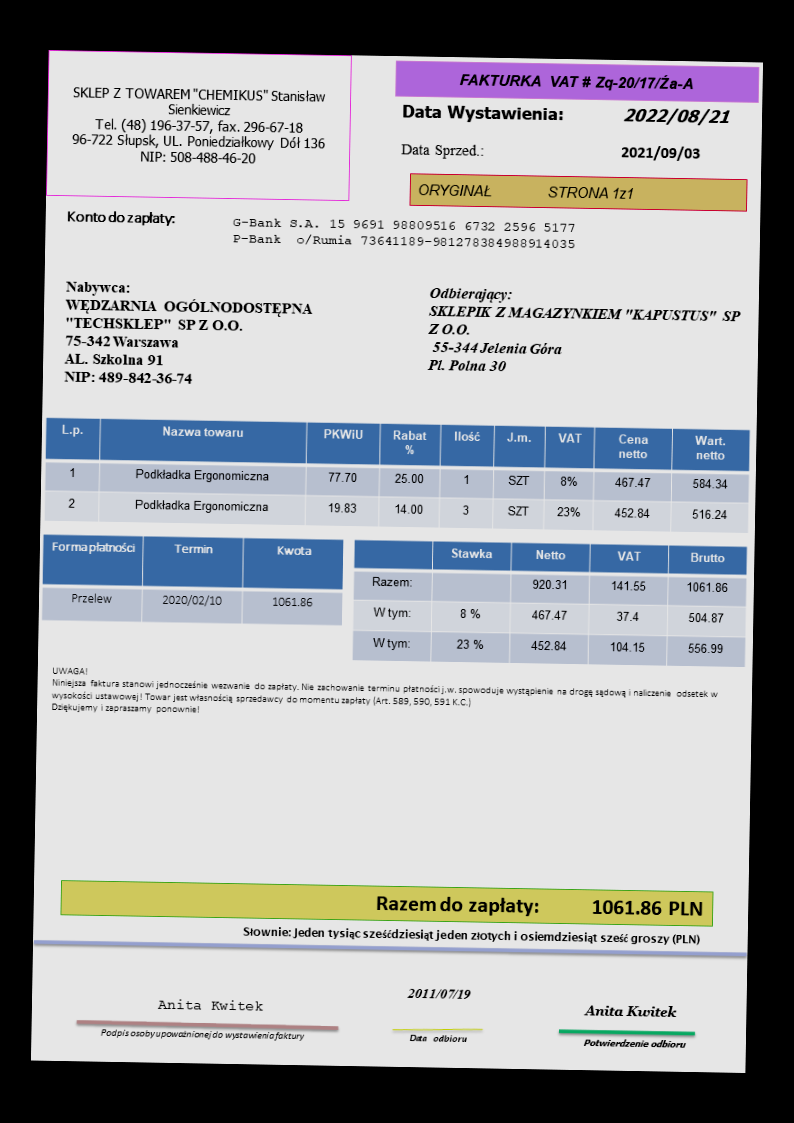Table: (42, 414, 751, 537), (348, 539, 748, 669), (40, 531, 347, 628)
TextBox: (49, 662, 722, 726), (424, 285, 743, 382), (60, 277, 318, 392), (65, 81, 331, 170), (226, 214, 579, 252), (239, 921, 702, 948), (373, 889, 706, 919), (454, 66, 700, 95), (416, 180, 636, 203), (398, 100, 567, 127), (96, 1026, 309, 1043), (622, 102, 733, 127), (62, 207, 178, 229), (396, 140, 488, 160), (155, 996, 262, 1013), (580, 1002, 681, 1020), (618, 145, 703, 163), (581, 1037, 690, 1051), (406, 985, 475, 1002), (407, 1031, 472, 1045)
